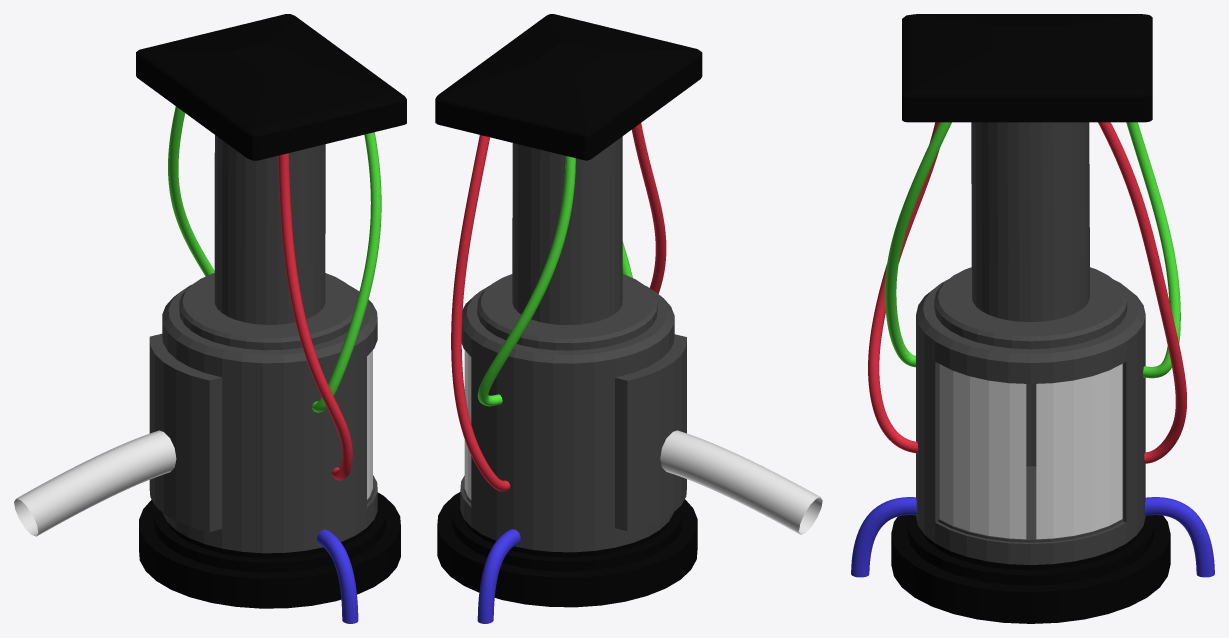
Rendered from 3dprinter2.fbx.
The picture shows the model from 3 angles, left to right: view 1: azimuth 30°, elevation 25°; view 2: azimuth 150°, elevation 25°; view 3: azimuth 270°, elevation 25°; orthographic projection. The views are drawn at different scales.
Visible parts, largest first — view 1: Cylinder.001, Cube, Cylinder, NurbsPath.002, NurbsPath.006, NurbsPath.005, NurbsPath.004, NurbsPath.001; view 2: Cylinder.001, Cube, Cylinder, NurbsPath.002, NurbsPath.003, NurbsPath.004, NurbsPath.006, NurbsPath; view 3: Cylinder.001, Cube, Cylinder, NurbsPath.003, Cylinder.002, NurbsPath.005, NurbsPath.004, NurbsPath.006, NurbsPath, NurbsPath.001.
Boxes of the visible parts, <box> form: Cylinder.001: <box>149,135,377,553</box>; Cube: <box>136,14,406,160</box>; Cylinder: <box>139,492,400,608</box>; NurbsPath.002: <box>14,430,176,536</box>; NurbsPath.006: <box>278,153,352,480</box>; NurbsPath.005: <box>312,132,381,412</box>; NurbsPath.004: <box>168,106,214,276</box>; NurbsPath.001: <box>317,529,358,623</box>; Cylinder.001: <box>460,136,686,552</box>; Cube: <box>435,14,702,160</box>; Cylinder: <box>437,492,697,607</box>; NurbsPath.002: <box>660,430,822,534</box>; NurbsPath.003: <box>451,135,510,491</box>; NurbsPath.004: <box>477,156,575,406</box>; NurbsPath.006: <box>632,123,666,293</box>; NurbsPath: <box>477,529,520,623</box>; Cylinder.001: <box>916,122,1145,564</box>; Cube: <box>902,14,1152,122</box>; Cylinder: <box>891,515,1170,623</box>; NurbsPath.003: <box>1098,122,1186,463</box>; Cylinder.002: <box>938,363,1123,542</box>; NurbsPath.005: <box>885,122,951,367</box>; NurbsPath.004: <box>1126,122,1180,378</box>; NurbsPath.006: <box>868,122,939,453</box>; NurbsPath: <box>1145,497,1214,577</box>; NurbsPath.001: <box>851,497,916,577</box>.
Size of the model in its own units: 389 by 516 by 317.
